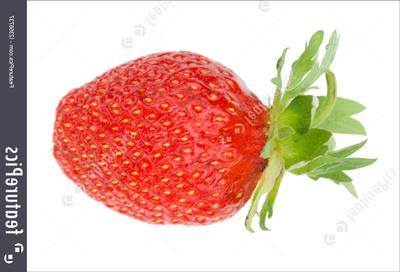strawberry: (0, 0, 400, 272)
